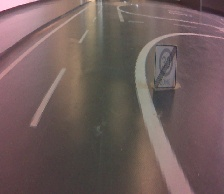zone 30 stop sign: (151, 40, 179, 91)
